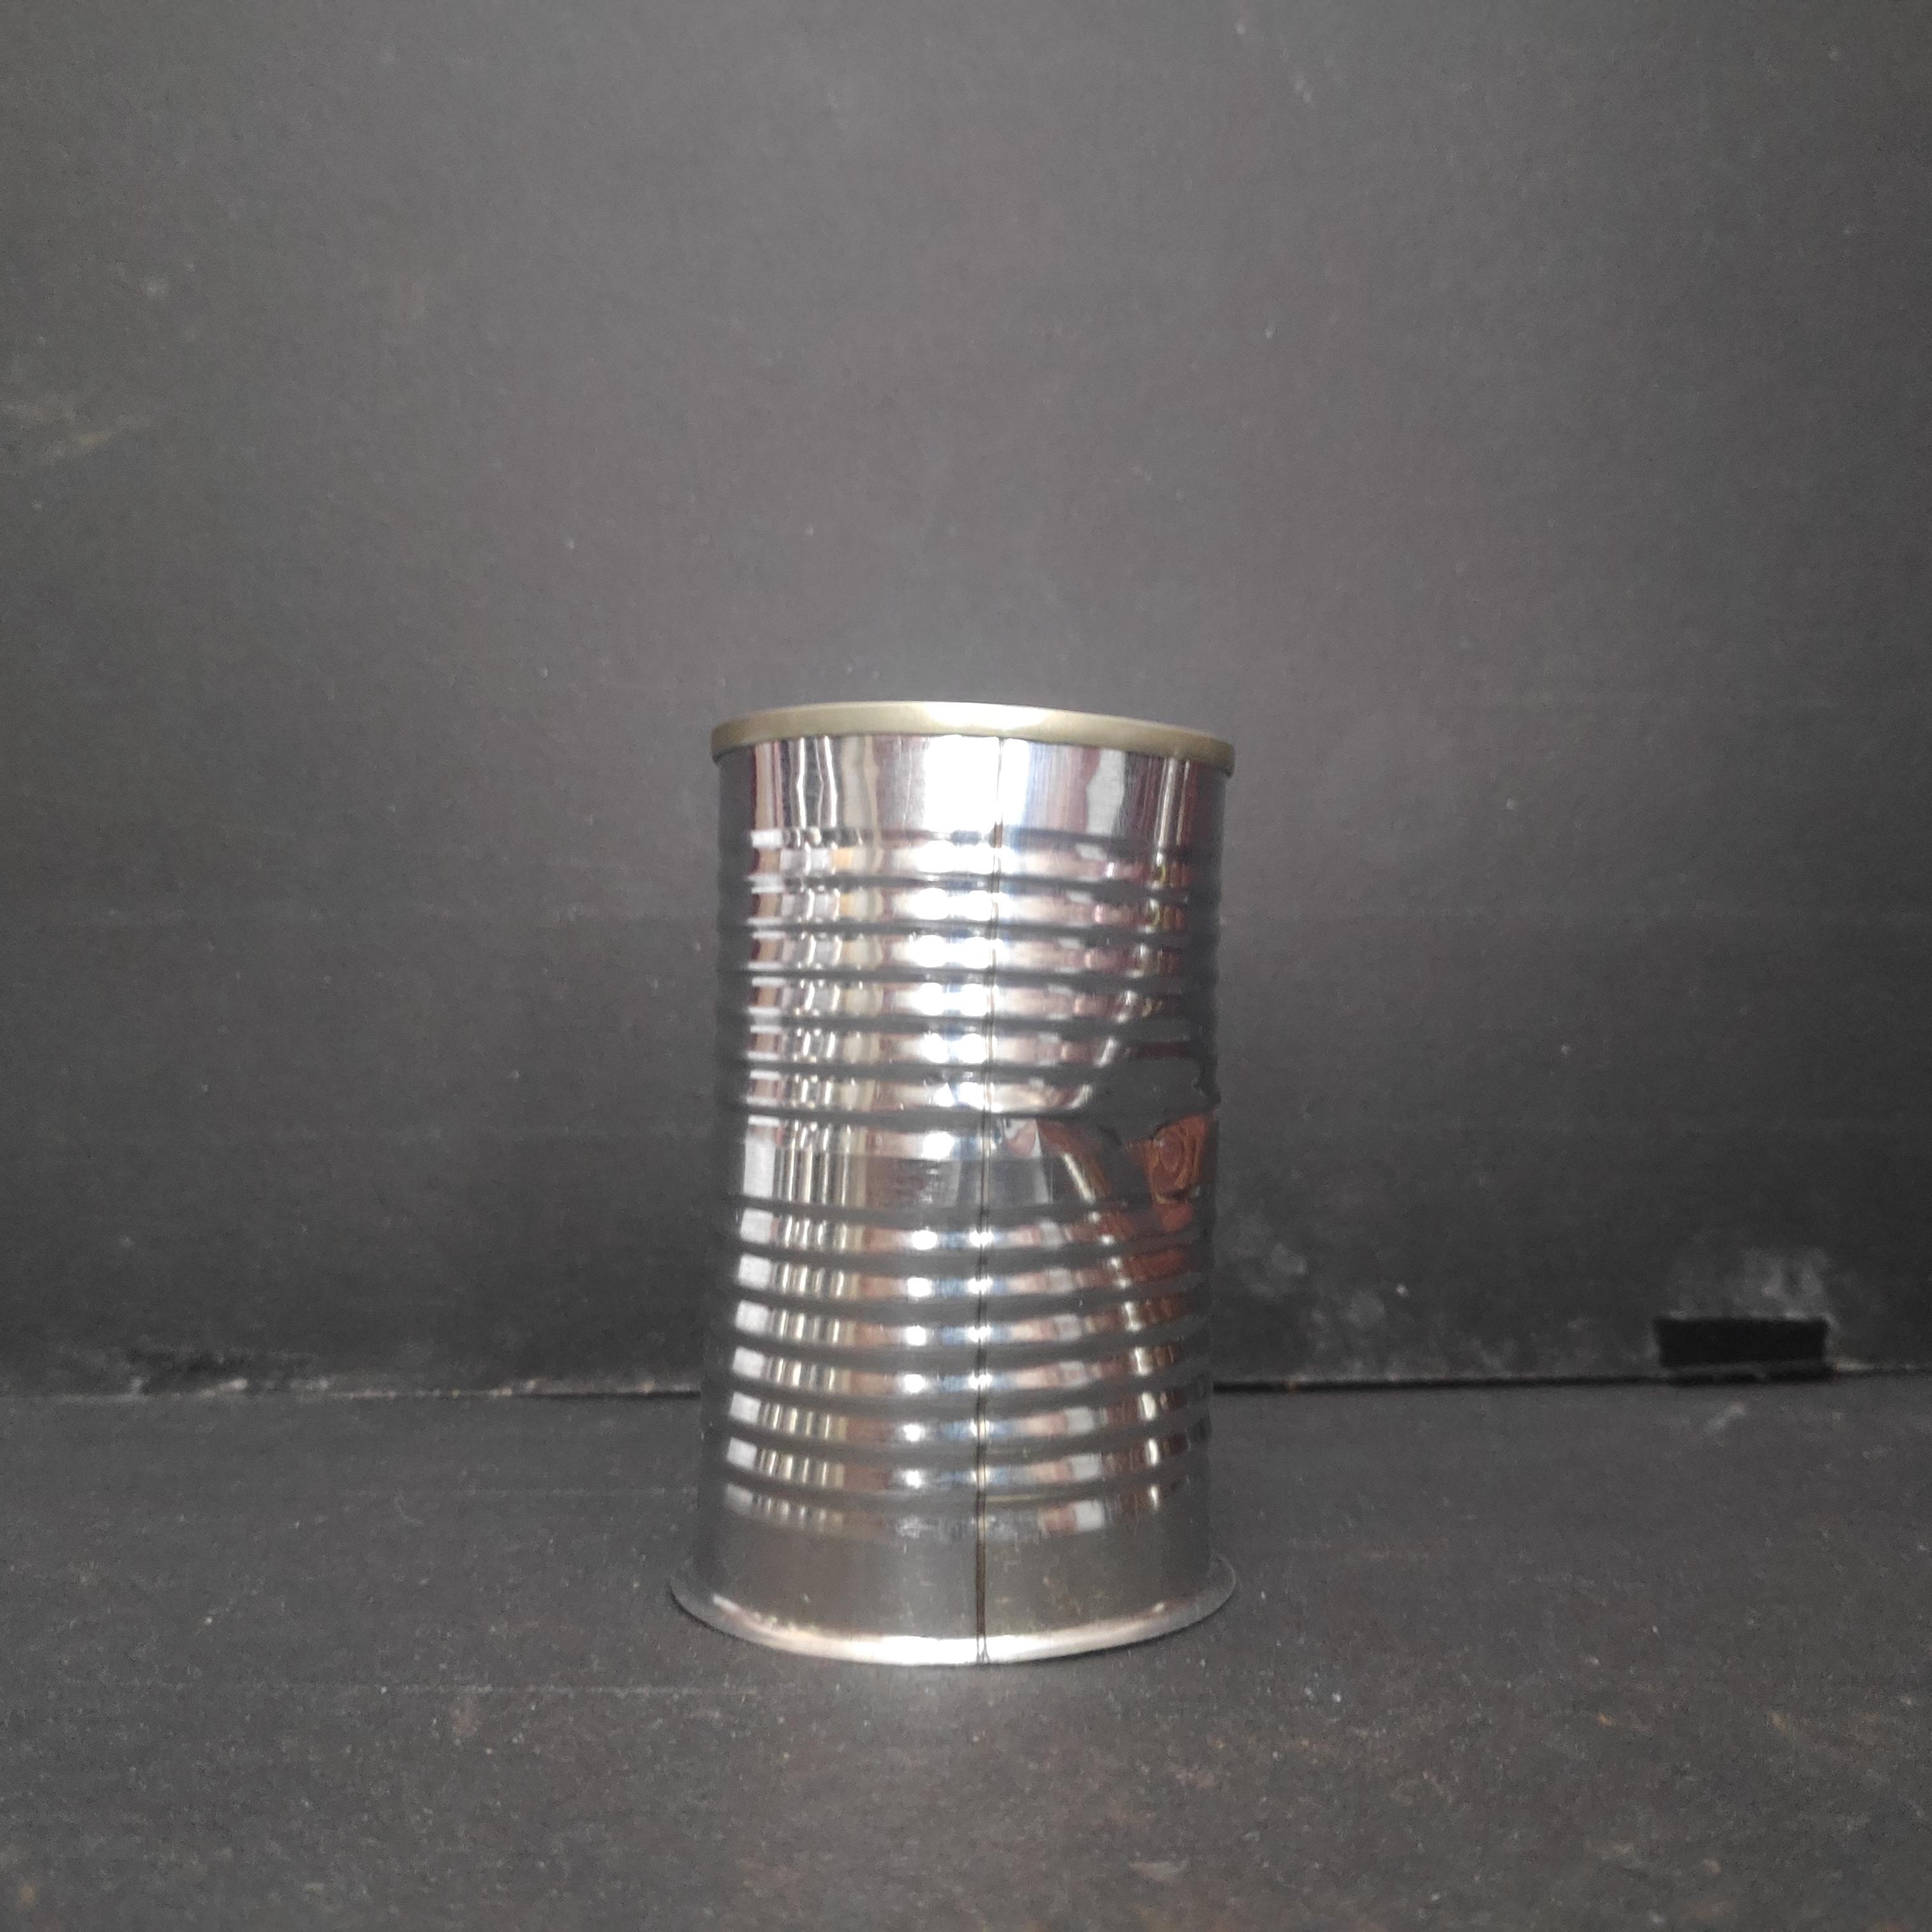Minor Defect: (678, 690, 1258, 1672)
